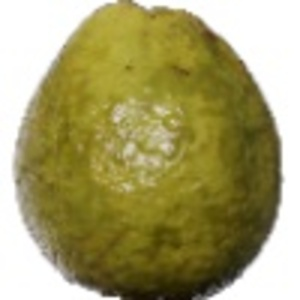goiaba: (10, 1, 290, 297)
